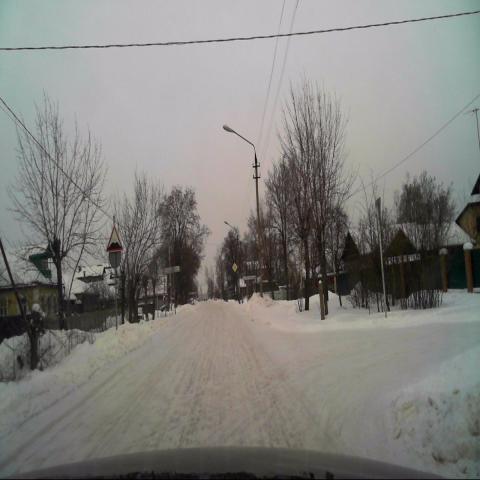1_16: (107, 226, 124, 252)
